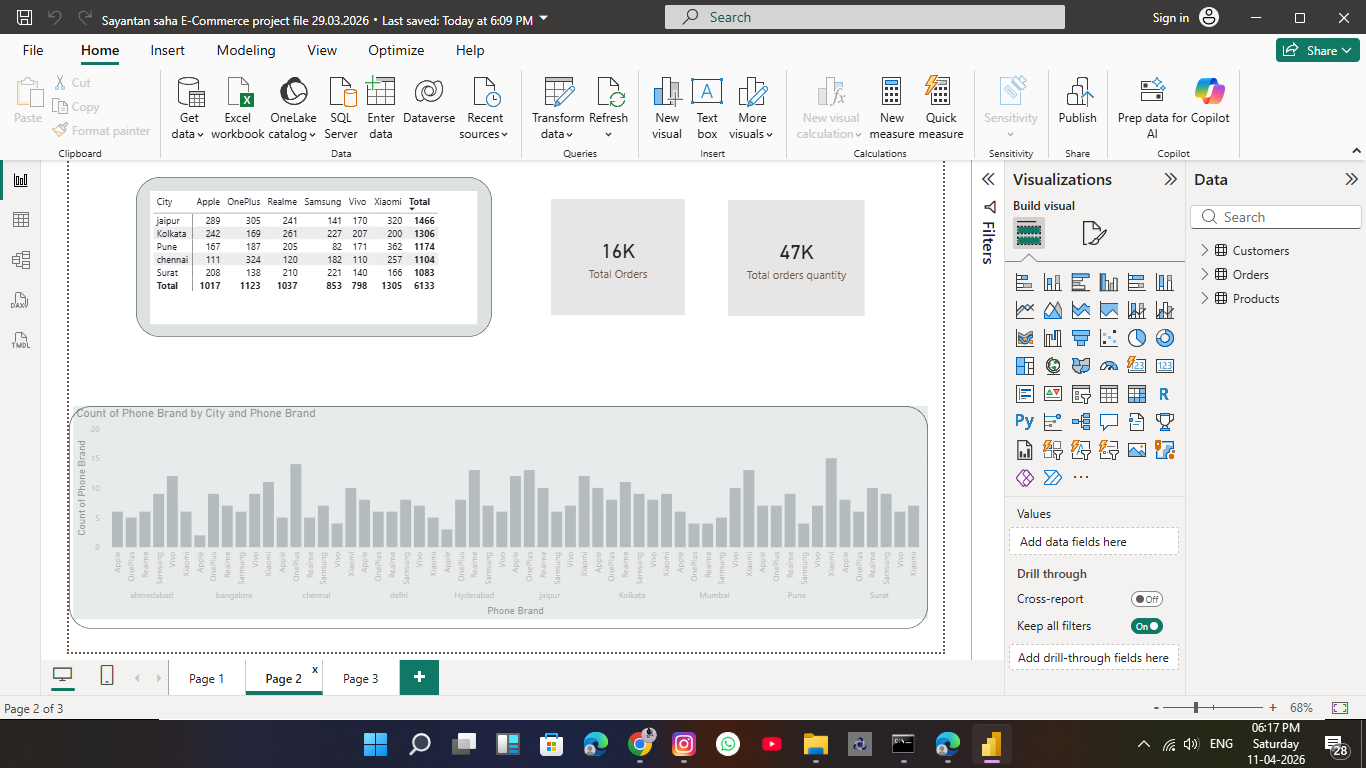

Layout of this report page (visuals, bound fields, positions):
{"tool":"powerbi","page":{"name":"Page 2","canvas":[1280,720],"ordinal":1},"visuals":[{"type":"clusteredColumnChart","fields":{"Category":["Customers.City","Customers.Phone Brand"],"Y":["CountNonNull(Customers.Phone Brand)"]},"box":[5.9,360,1251.2,311.7],"z":0},{"type":"shape","box":[98,24.9,521,234.1],"z":1000},{"type":"pivotTable","fields":{"Rows":["Customers.City"],"Values":["Customers.count of delivery status"],"Columns":["Customers.Phone Brand"]},"box":[118.5,45.4,478.5,194.6],"z":2000},{"type":"shape","box":[0,360,1257.1,326.3],"z":3000},{"type":"card","fields":{"Values":["Orders.Total orders quantity"]},"box":[964.4,58.5,200.5,169.8],"z":4000},{"type":"card","fields":{"Values":["Customers.Total Orders"]},"box":[705.4,57.1,196.1,169.8],"z":5500}]}

Visuals, with their boxes on the page's 1280x720 design canvas (x1, y1, x2, y2). These are canvas units, not pixel positions in the 1366x768 screenshot, which may show the page scaled, cropped or inside an application window:
clusteredColumnChart - Customers.City x Customers.Phone Brand: [6,360,1257,672]
shape: [98,25,619,259]
pivotTable - Customers.City x Customers.count of delivery status: [118,45,597,240]
shape: [0,360,1257,686]
card - Orders.Total orders quantity: [964,58,1165,228]
card - Customers.Total Orders: [705,57,902,227]
